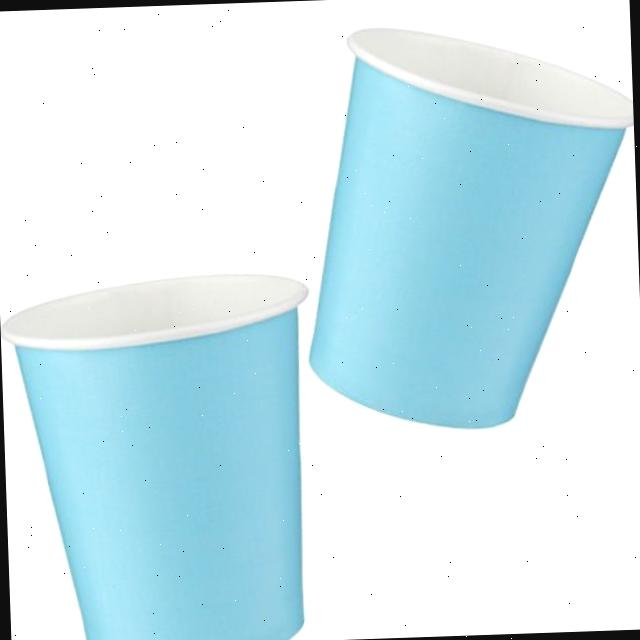trash: (0, 234, 332, 640)
